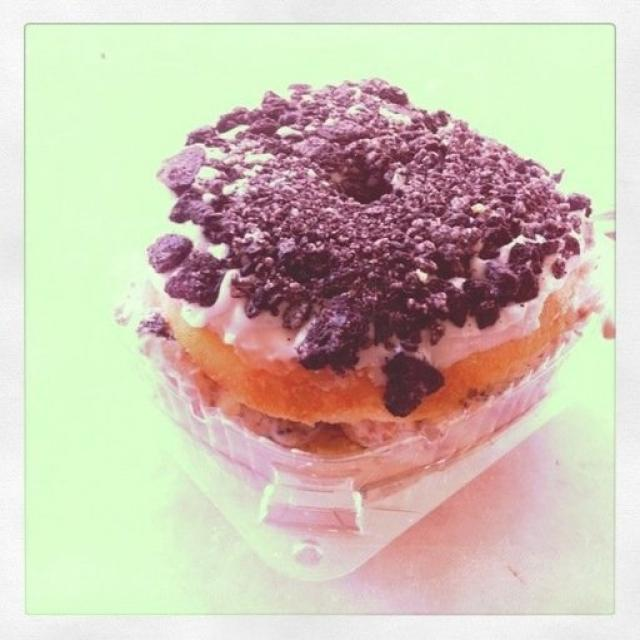Donuts: (101, 69, 640, 553)
